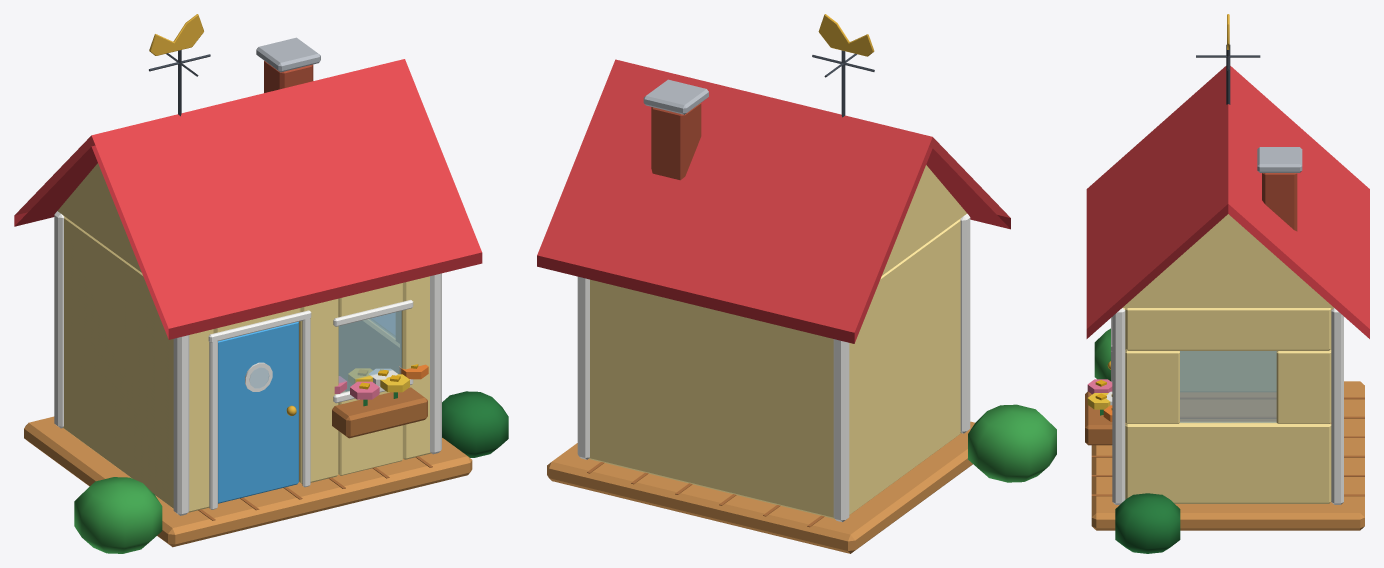
File: casinha_brincar.glb
3 views of the same model, side by side, from view 1: azimuth 30°, elevation 25°; view 2: azimuth 150°, elevation 25°; view 3: azimuth 270°, elevation 25° (orthographic). The views are drawn at different scales.
Parts seen in each view (by area): view 1: casinha_brincar, porta_1, cata_vento; view 2: casinha_brincar, cata_vento; view 3: casinha_brincar.
Part boxes in pixels (x1,y1,x2,y2): casinha_brincar: (14,37,508,553); porta_1: (218,321,298,503); cata_vento: (149,14,210,76); casinha_brincar: (537,50,1056,553); cata_vento: (812,14,874,77); casinha_brincar: (1085,44,1369,553).
Bounding box in the file's own units: 2.82 × 2.87 × 1.77.
2 materials, 1 textured.
